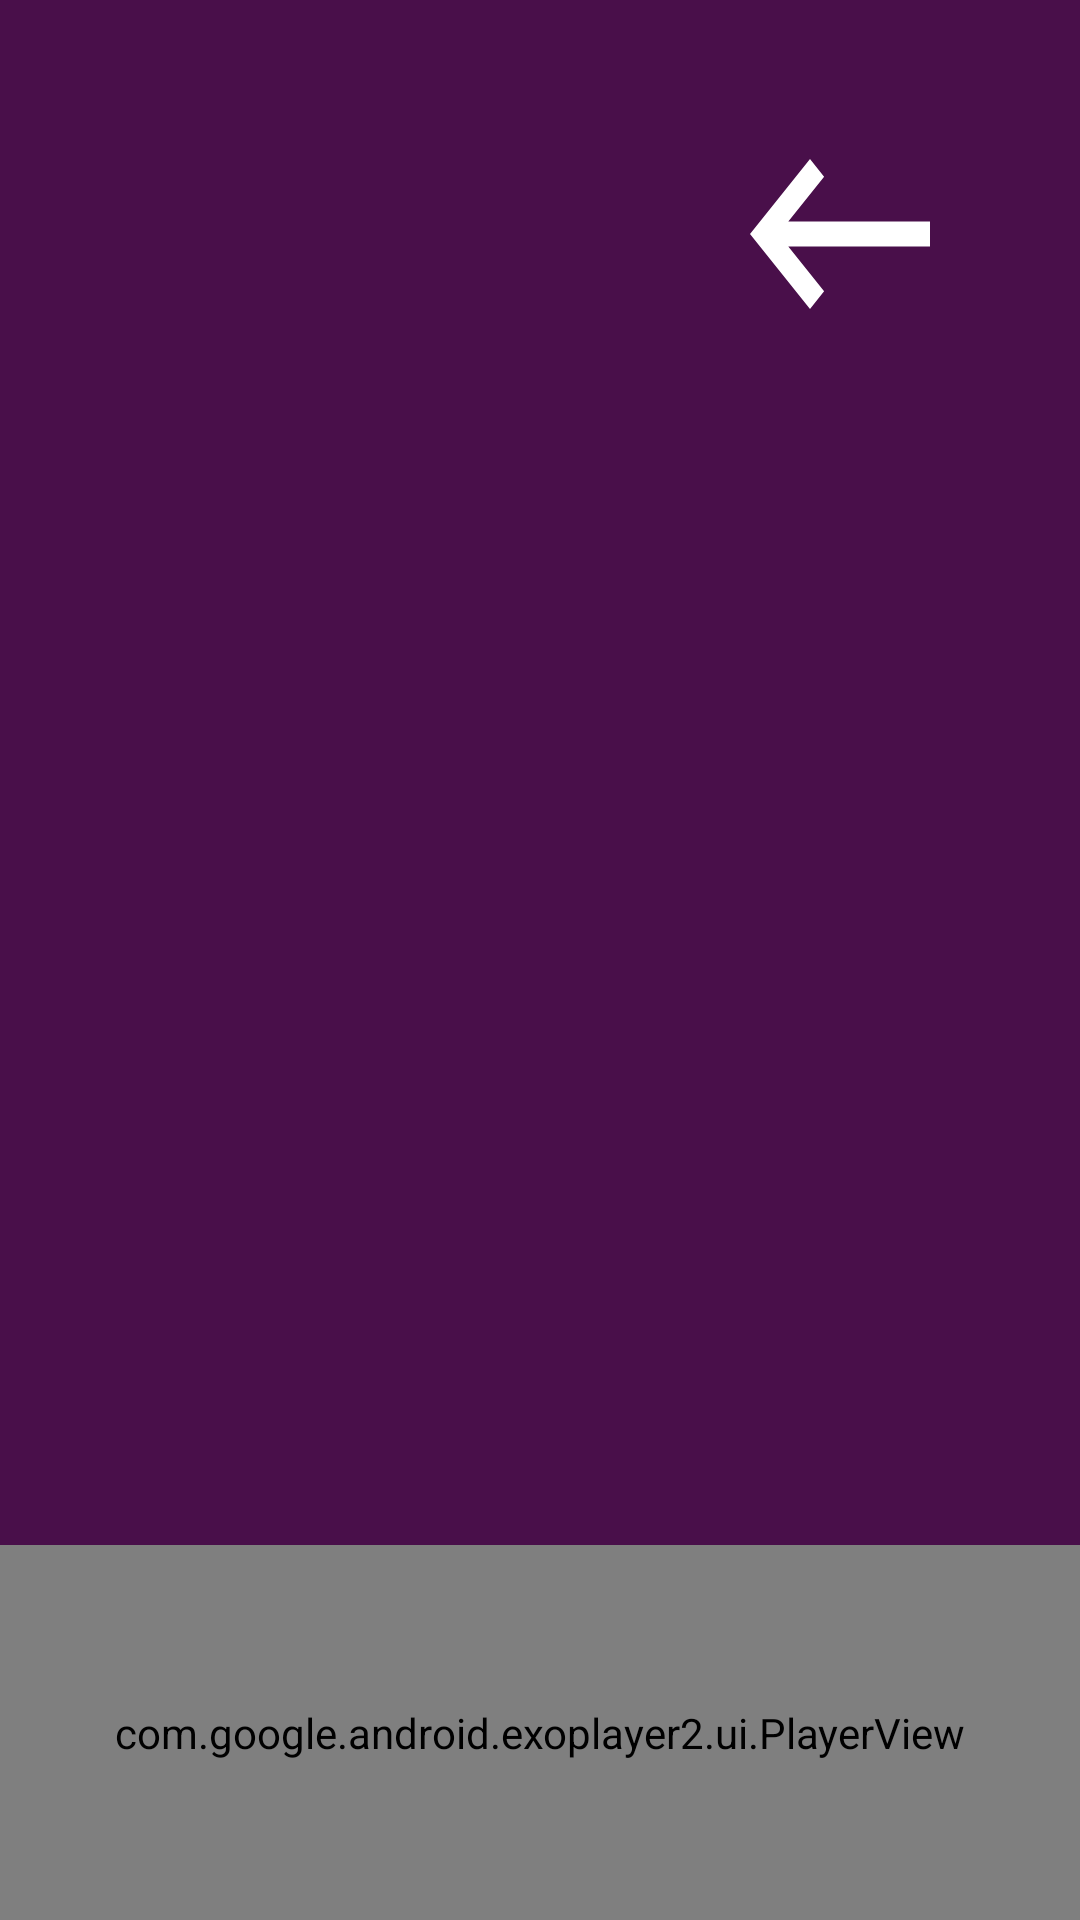

Icons on this 1080x1920 Android screen, each with its box as (left=x1, top=y1, right=x2, bottom=y2):
back: (left=750, top=159, right=930, bottom=309)
